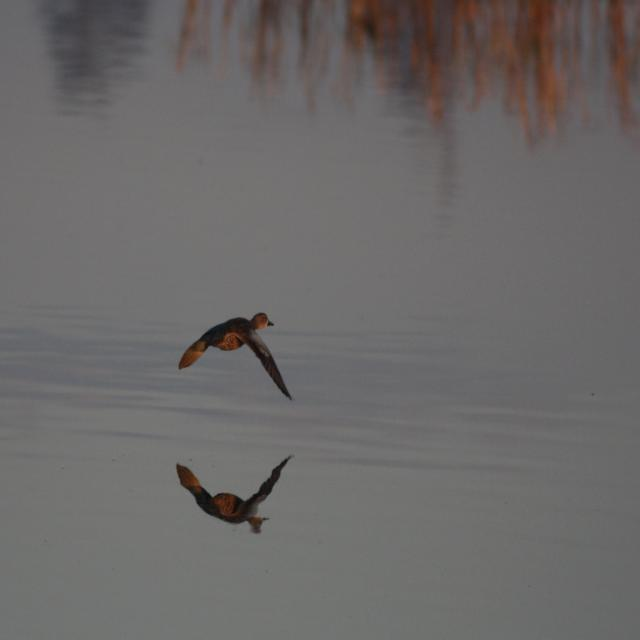bird: (176, 310, 290, 404)
